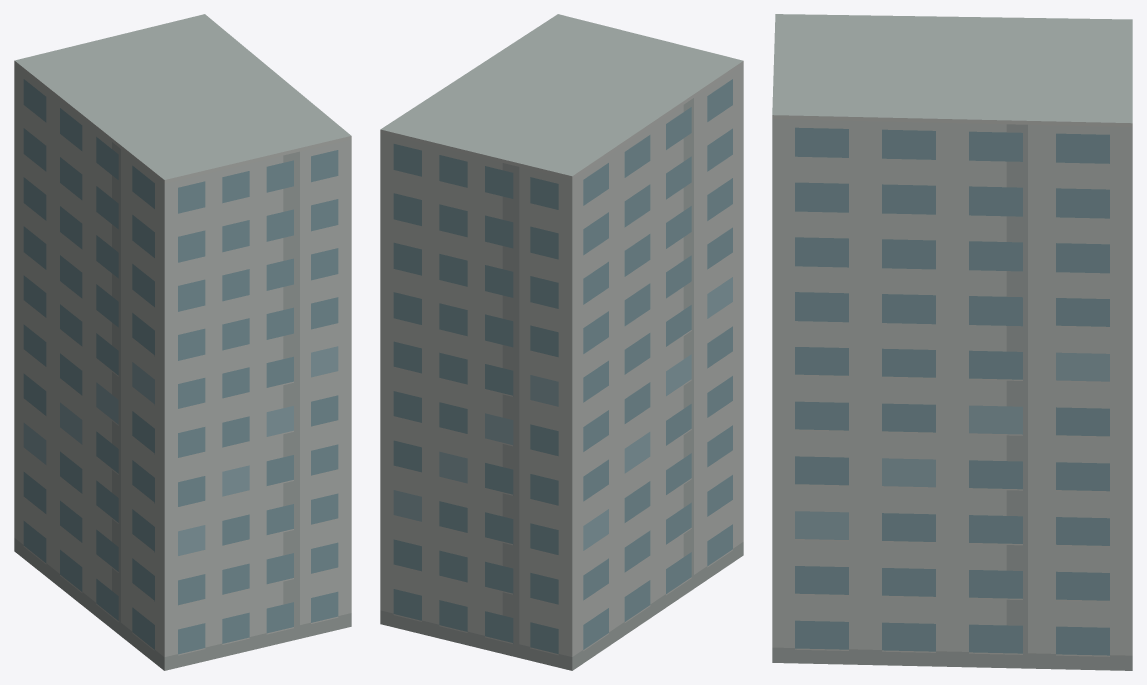
File: residential-54e67b04-1662-46da-9784-ad0a74d7c6f4.glb
3 renders of one model, left to right at view 1: azimuth 30°, elevation 25°; view 2: azimuth 150°, elevation 25°; view 3: azimuth 270°, elevation 25°, orthographic. The views are drawn at different scales.
Parts seen in each view (by area): view 1: residential-54e67b04-1662-46da-9784-ad0a74d7c6f4.tmp; view 2: residential-54e67b04-1662-46da-9784-ad0a74d7c6f4.tmp; view 3: residential-54e67b04-1662-46da-9784-ad0a74d7c6f4.tmp.
Part boxes in pixels (bbox=[...]): residential-54e67b04-1662-46da-9784-ad0a74d7c6f4.tmp: bbox=[14, 14, 351, 670]; residential-54e67b04-1662-46da-9784-ad0a74d7c6f4.tmp: bbox=[380, 14, 743, 670]; residential-54e67b04-1662-46da-9784-ad0a74d7c6f4.tmp: bbox=[772, 14, 1132, 670].
Size of the model in its own units: 14.54 by 34 by 20.29.
